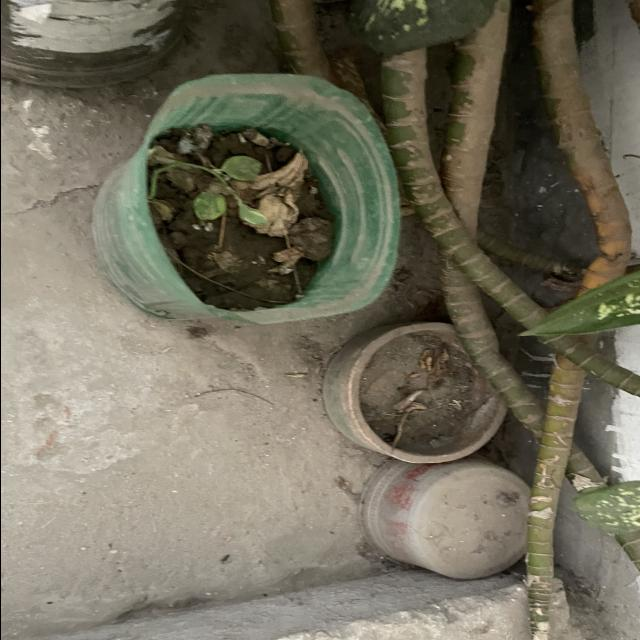Breeding Place: (100, 72, 394, 326), (360, 464, 542, 580), (324, 332, 504, 447)
